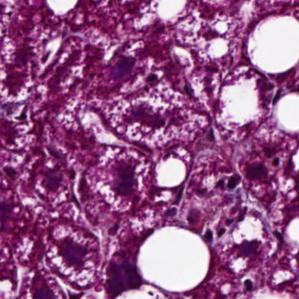inflammation: (91, 146, 153, 204), (193, 202, 251, 241), (107, 50, 162, 90), (207, 168, 244, 196)
